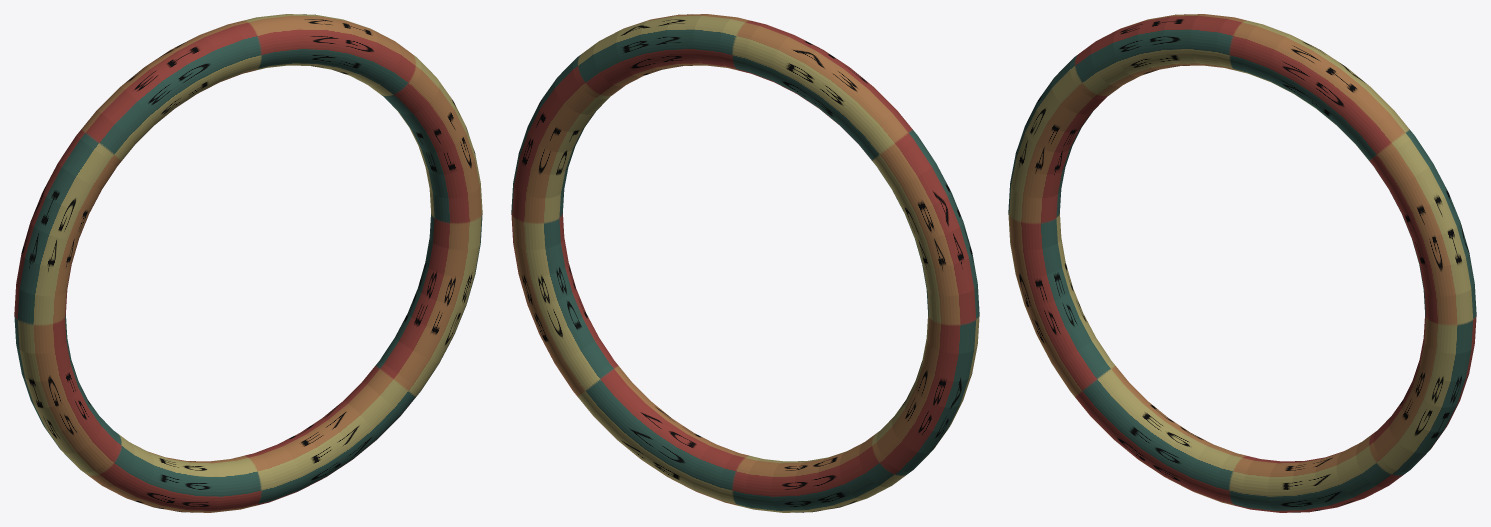
Rendered from texture_torus_R13_r0.glb.
The picture shows the model from 3 angles, left to right: view 1: azimuth 30°, elevation 25°; view 2: azimuth 150°, elevation 25°; view 3: azimuth 330°, elevation 25°; orthographic projection.
Parts seen in each view (by area): view 1: world; view 2: world; view 3: world.
Boxes of the visible parts, box(x1,y1,x2,y2) form: world: box(14, 14, 482, 512); world: box(511, 14, 979, 512); world: box(1008, 14, 1476, 512).
Size of the model in its own units: 20.67 by 20.63 by 2.
1 material, 1 textured.
